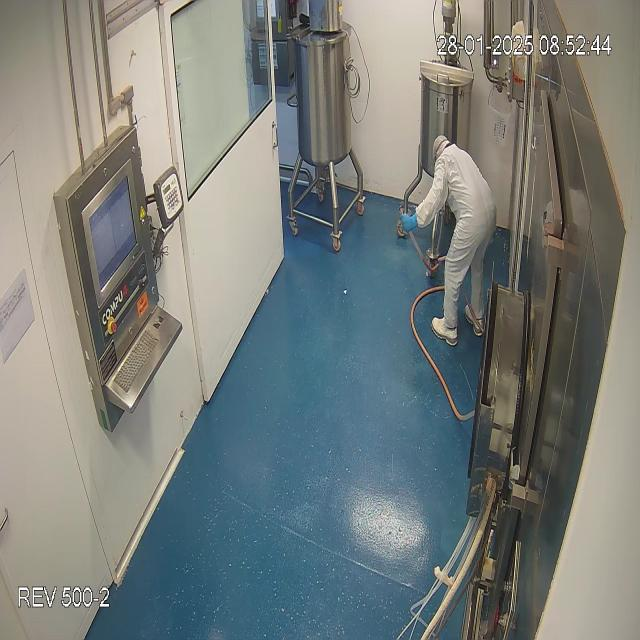bota: (430, 305, 484, 347)
pessoa: (401, 135, 498, 345)
touca: (430, 134, 453, 160)
